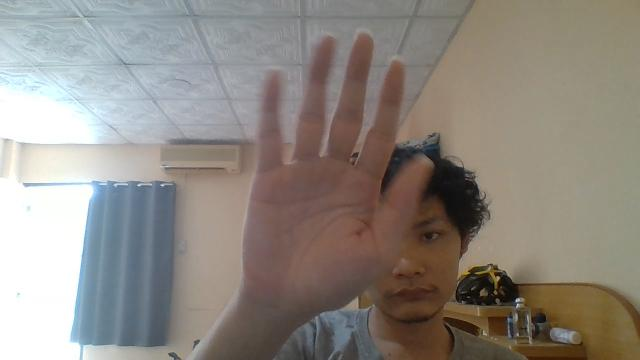Stop: (238, 29, 406, 320)
